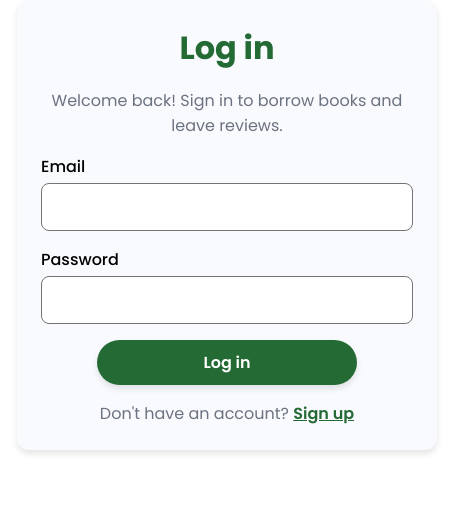
it: LoginPage (integration) › shows a fallback error when the backend responds with a 500 and no detail
Type "user@test.com" into the field labelled "Email".
click(227, 207); type("user@test.com")  # box [41, 183, 413, 231]
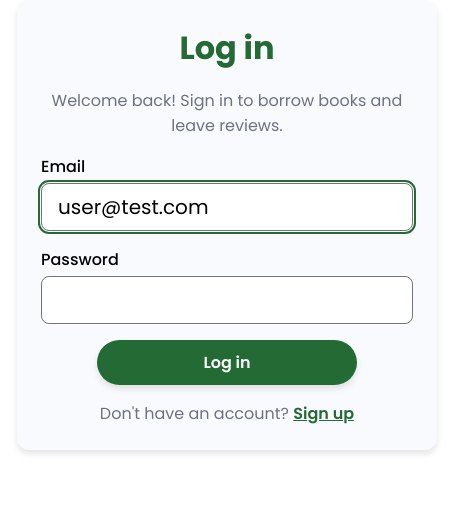
Type "pass123" into the password field labelled "Password".
click(227, 300); type("pass123")  # box [41, 276, 413, 324]
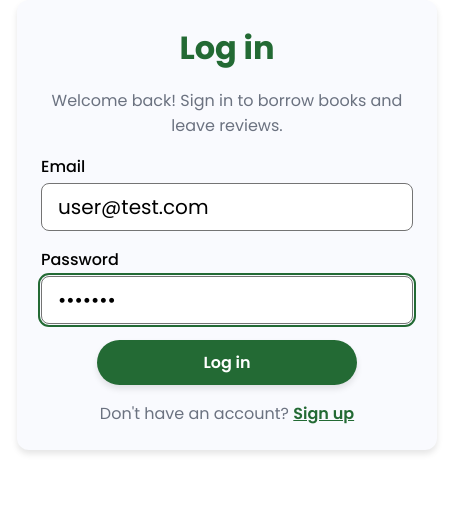
Click the button "Log in".
click(227, 362)  # box [97, 340, 357, 385]
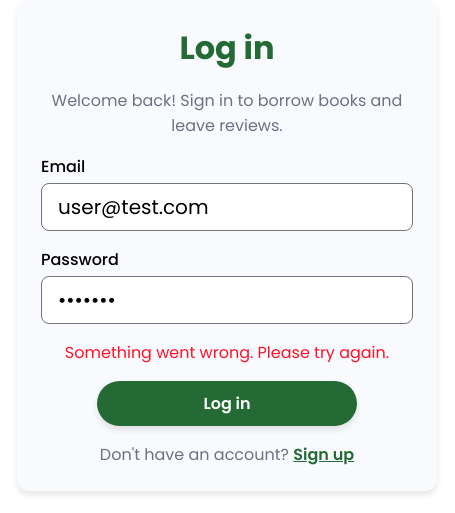
Check: the message reads "Something went wrong. Please try again.", box [65, 341, 389, 364]
